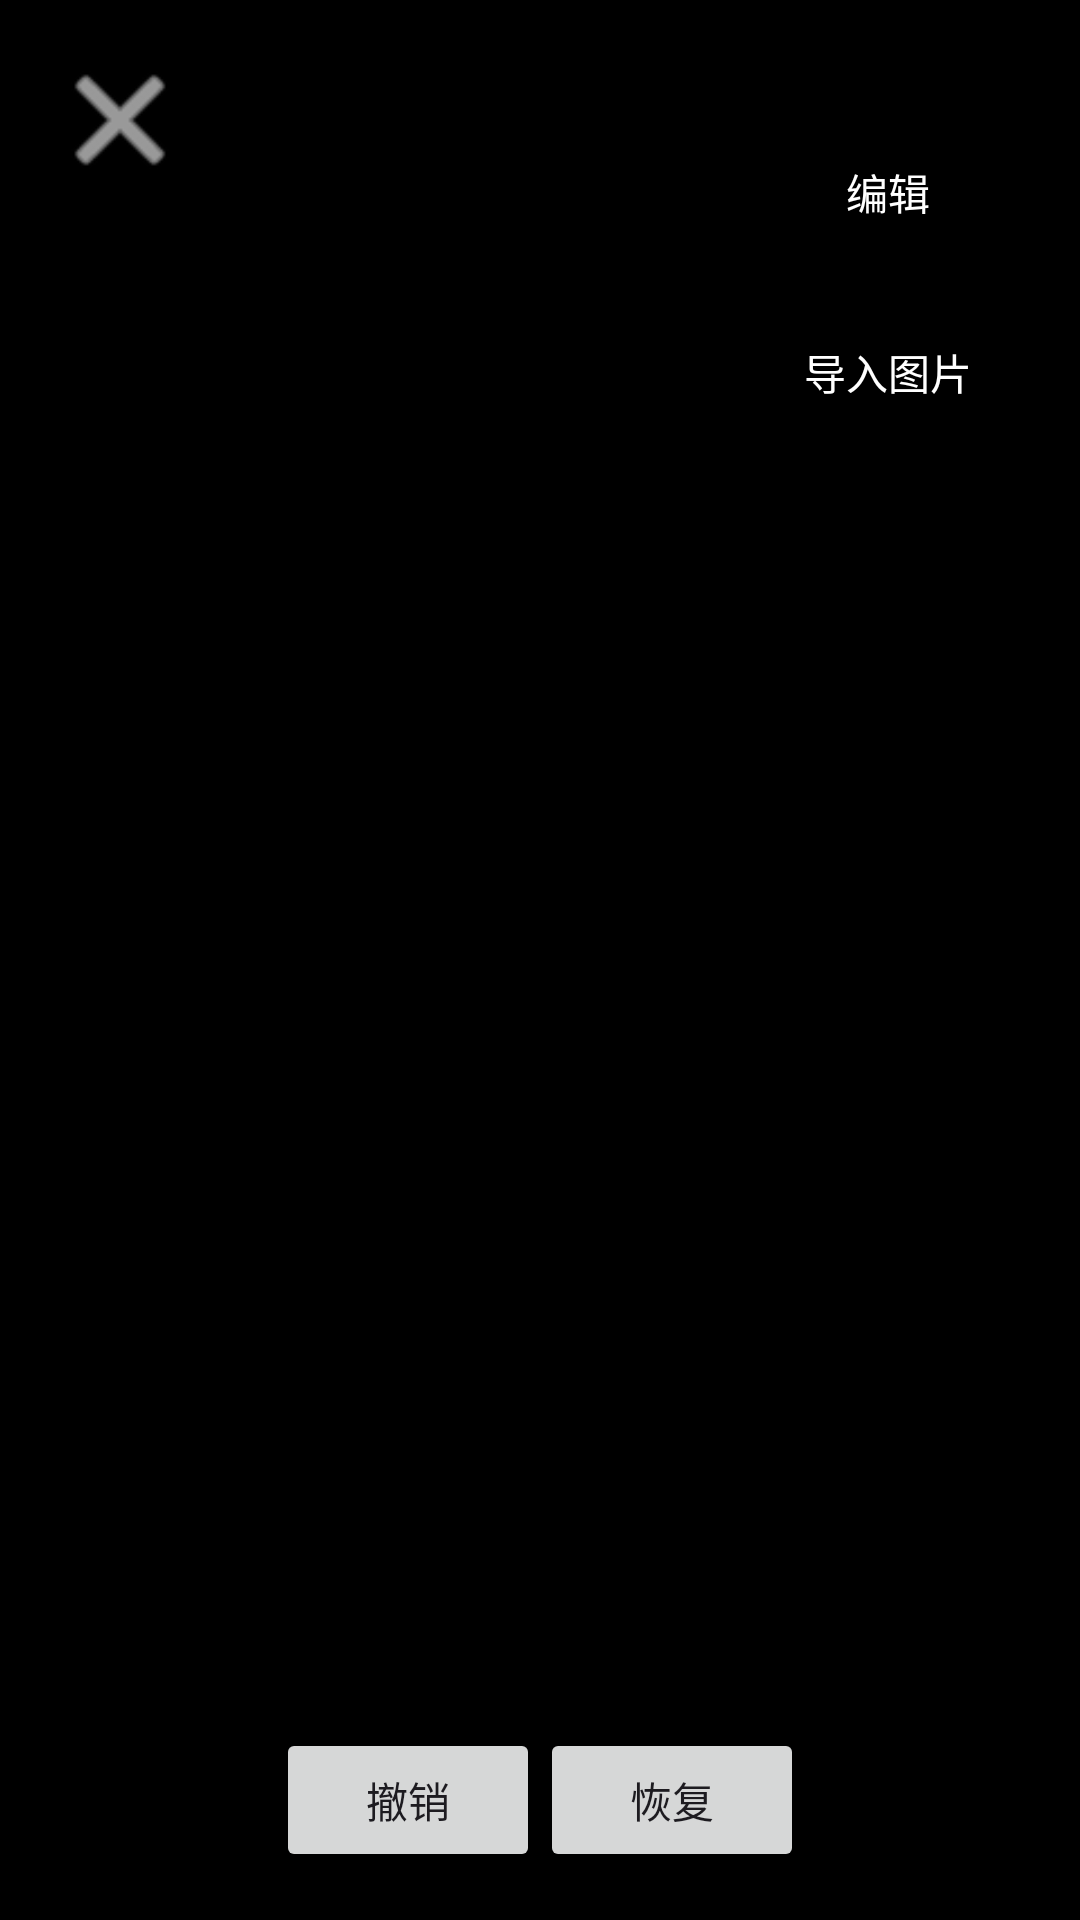

Icon click points for this 1080px×1920px phone screenshot, format [x,y]:
close clear cancel: [120,120]
